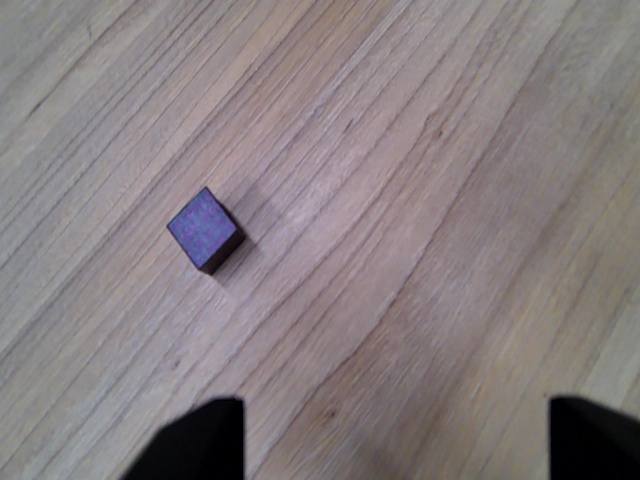brick: (167, 187, 248, 274)
